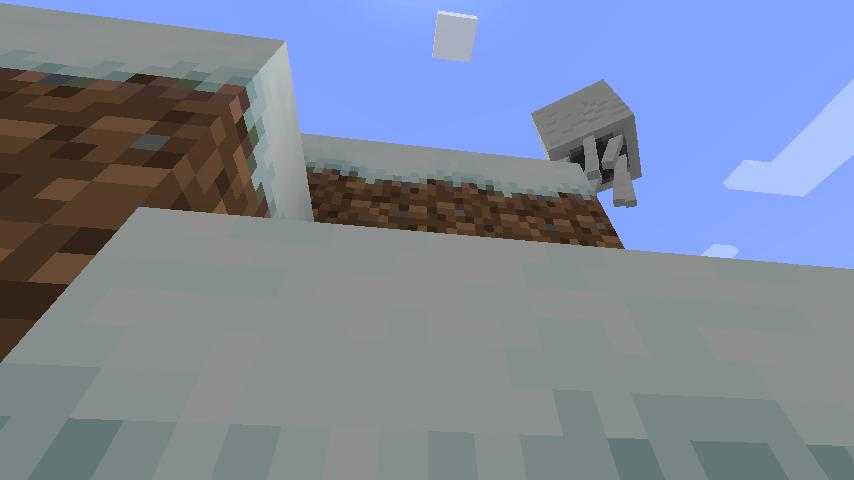ghast: (531, 77, 645, 210)
